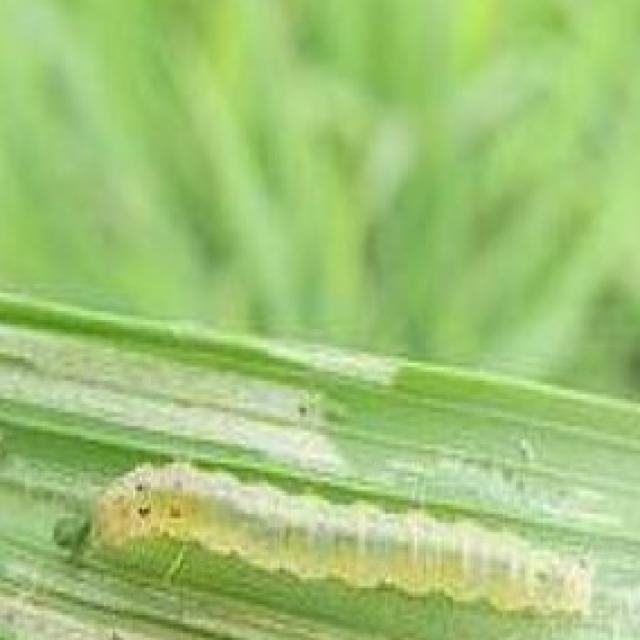rice leaf roller: (95, 464, 593, 611)
